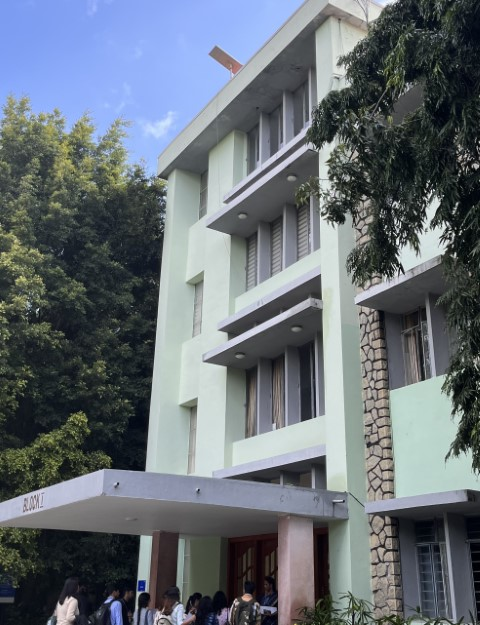Block 1: (146, 30, 480, 625)
